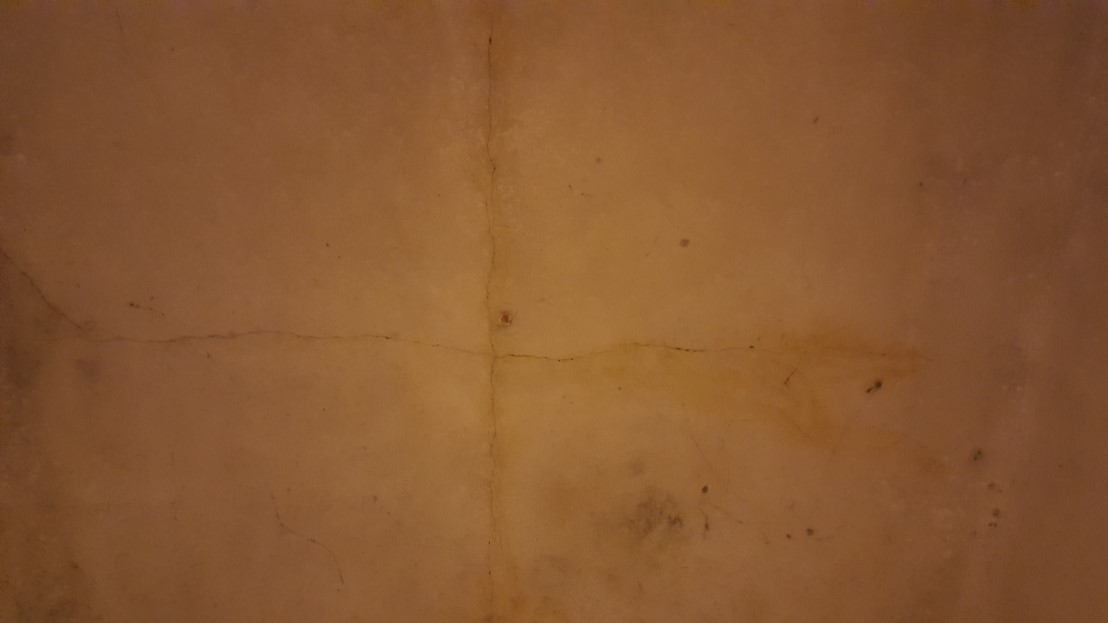Crack: (0, 246, 499, 372), (457, 0, 537, 352), (478, 329, 902, 368), (252, 482, 364, 618), (477, 343, 514, 623)
